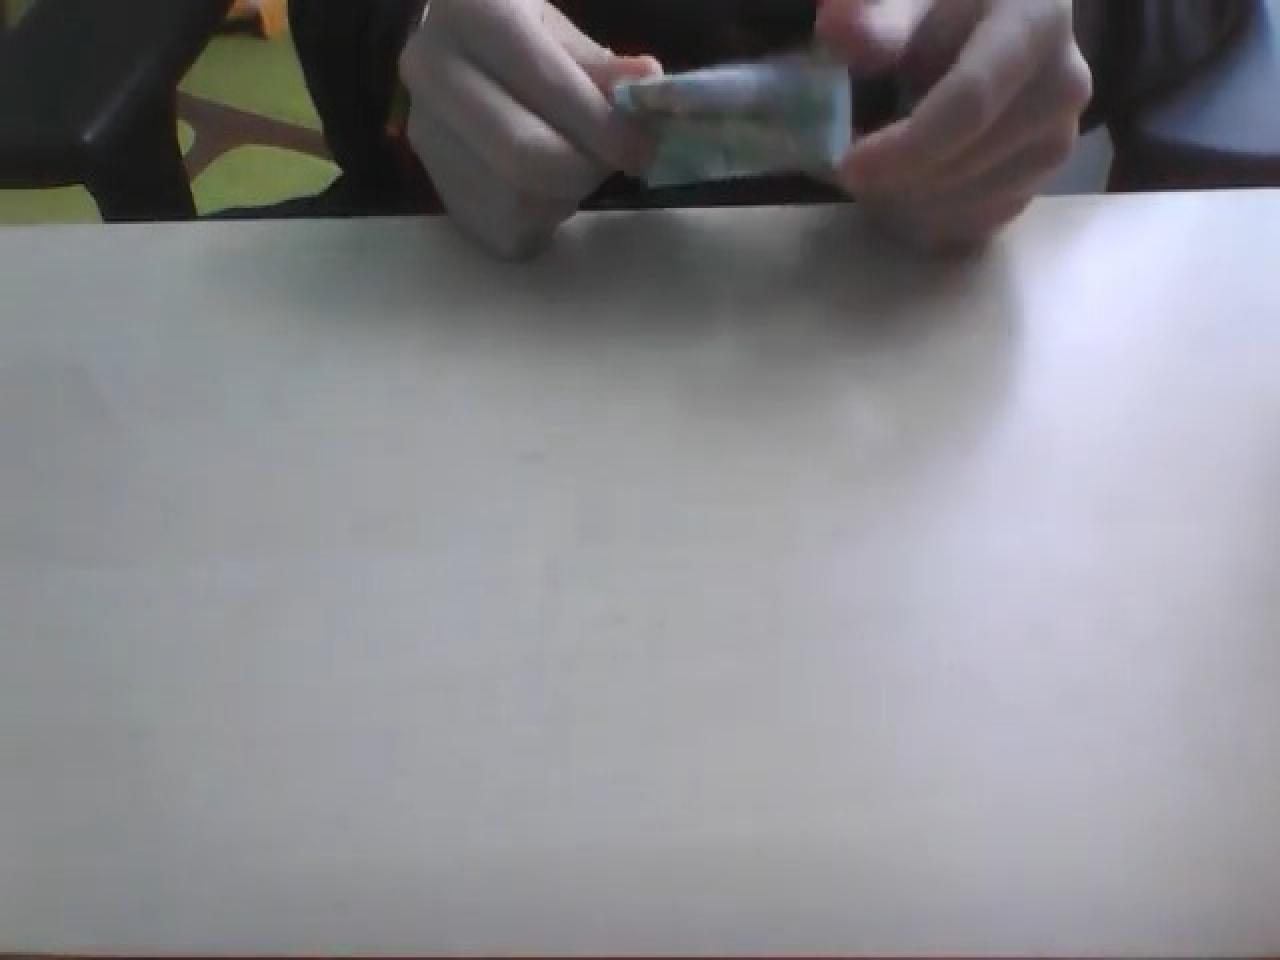100leva: (608, 48, 858, 195)
